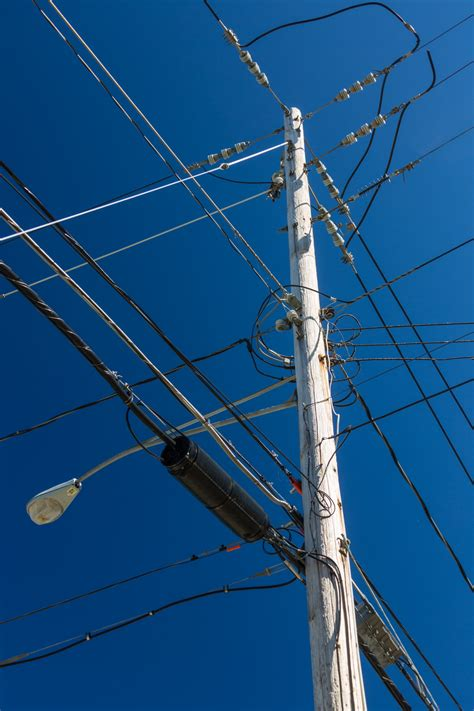pole: (123, 53, 474, 711)
